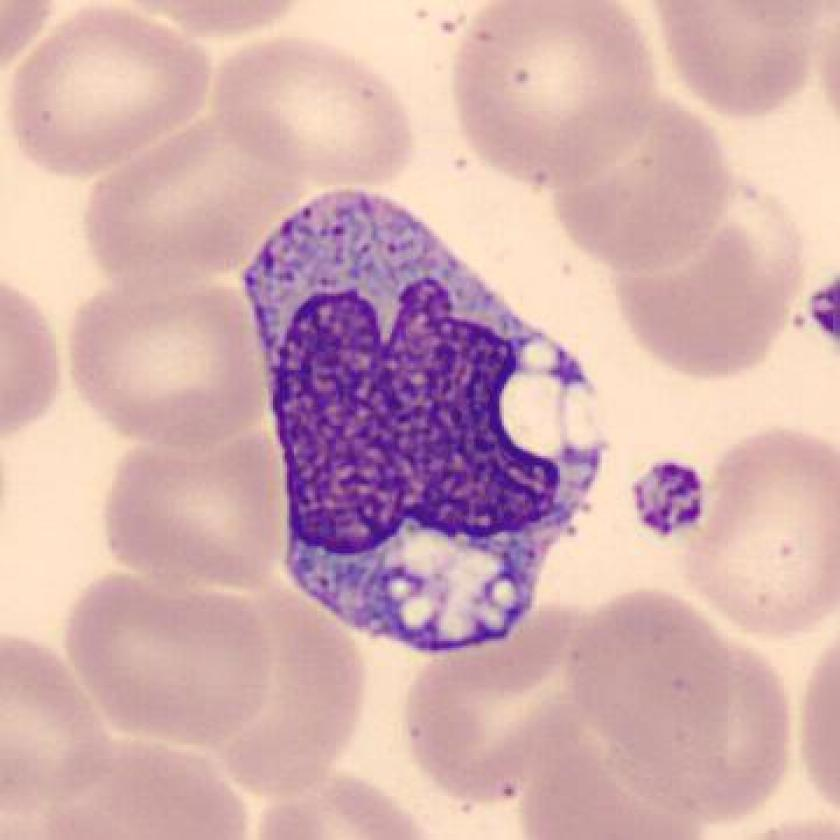monocyte: (223, 165, 638, 672)
